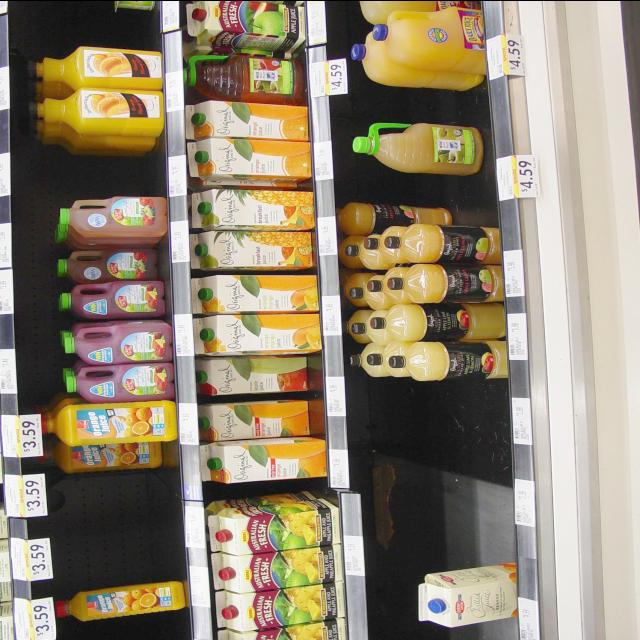empty_space: (370, 380, 506, 563), (70, 468, 178, 582), (73, 154, 163, 196), (369, 89, 483, 116), (378, 176, 486, 202), (55, 19, 153, 45)
